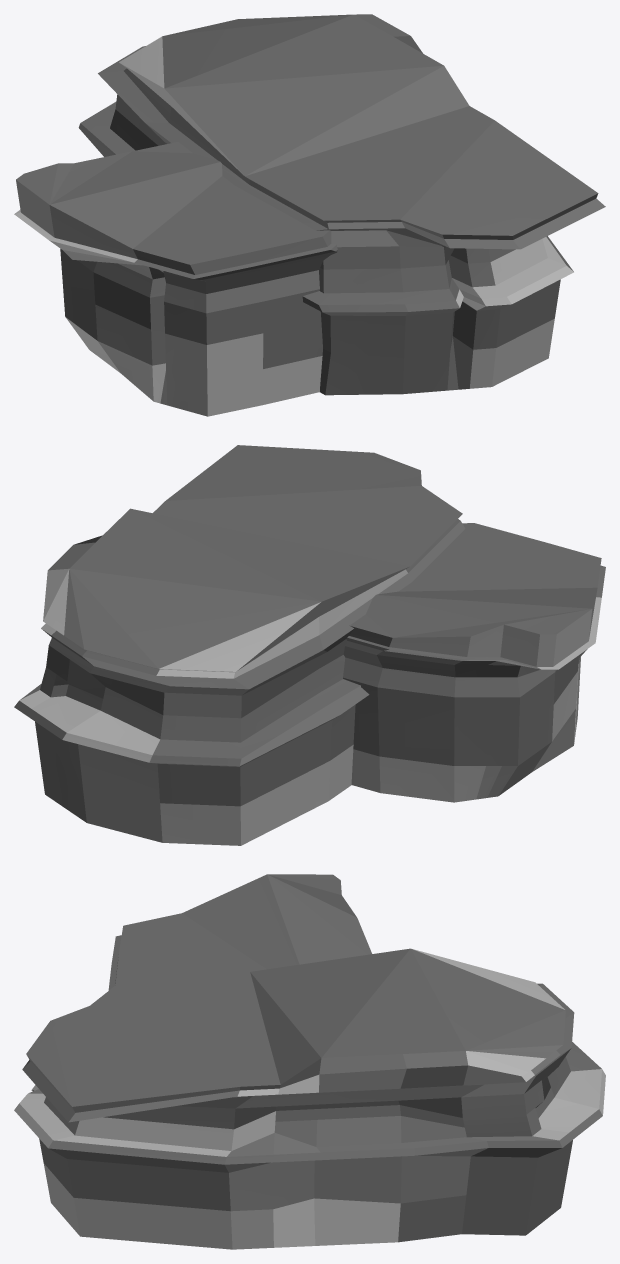
File: SpaceRock7.glb
3 views of the same model, one above another, from view 1: azimuth 30°, elevation 25°; view 2: azimuth 150°, elevation 25°; view 3: azimuth 270°, elevation 25° (orthographic). The views are drawn at different scales.
Parts seen in each view (by area): view 1: cliff_7; view 2: cliff_7; view 3: cliff_7.
Boxes of the visible parts, box(x1,y1,x2,y2) form: cliff_7: box(14, 14, 605, 416); cliff_7: box(14, 445, 605, 845); cliff_7: box(14, 874, 605, 1249).
Size of the model in its own units: 59.52 by 24.47 by 69.72.
Materials: 1 (1 with a texture image).
